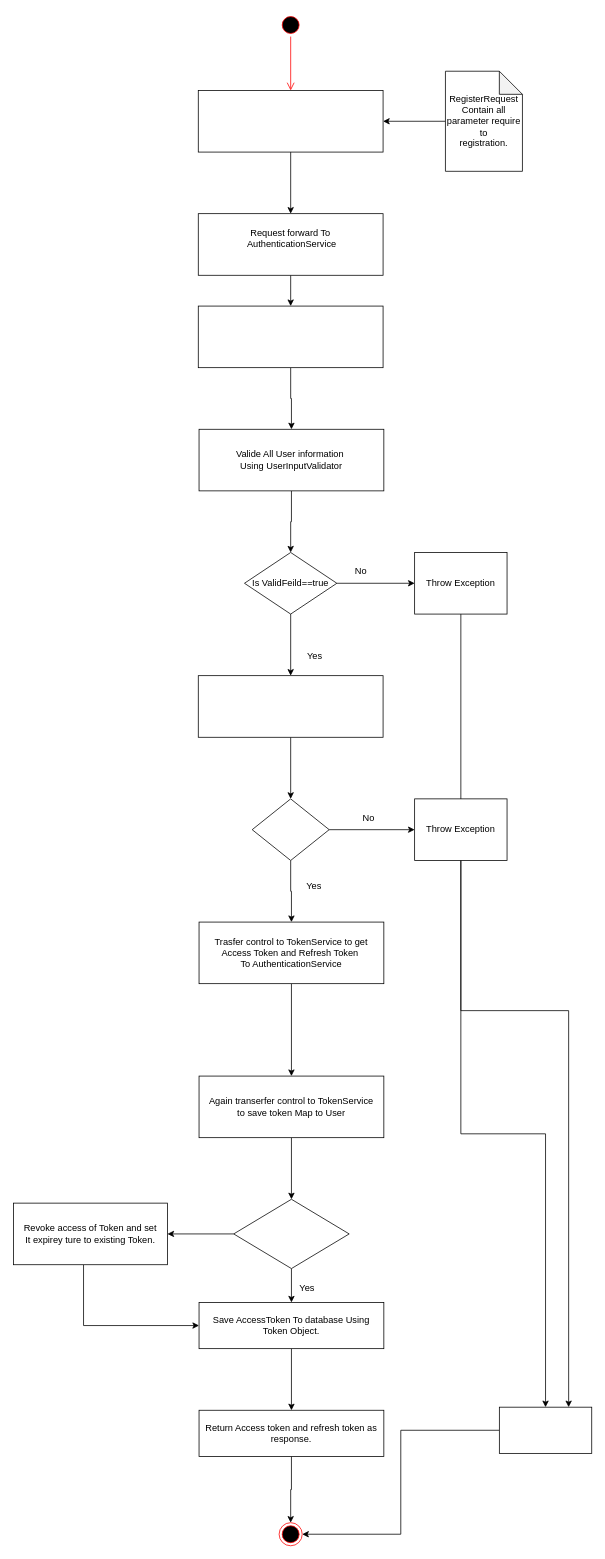
The diagram is 605 pixels wide and 1559 high, and some of its shapes have lost their labels. The centre of each missing label's shape, as x and y in pixels:
Authentication Service extract All require feilds into UserClass: point (290, 336)
Handle exception properly.: point (545, 1429)
Have Active Token ==false: point (291, 1234)
Request receive by User Controller: point (290, 121)
Send control To UserService To register User: point (290, 706)
UserSaved ==True: point (290, 829)
